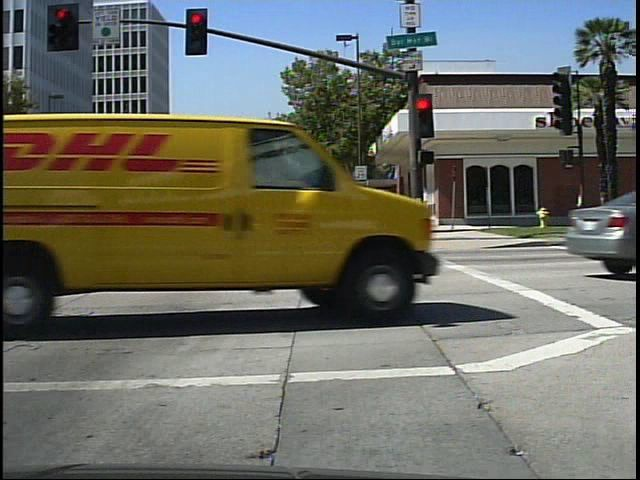person: (279, 204, 293, 222)
